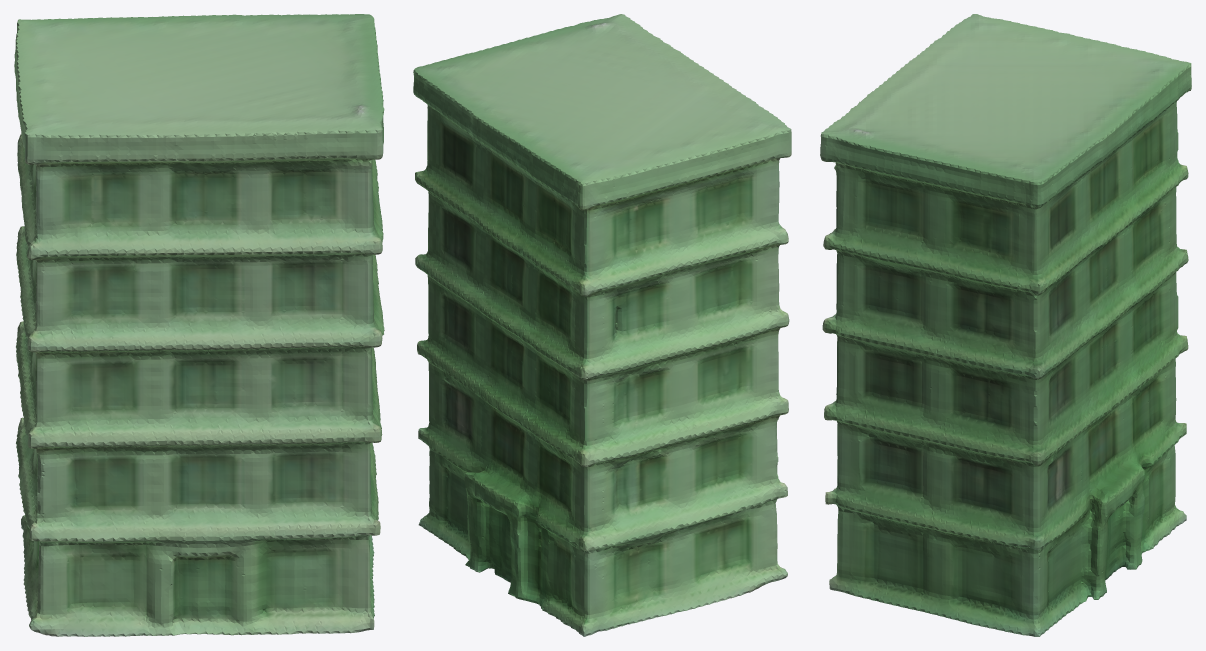
File: Head Office.glb
3 renders of one model, left to right at view 1: azimuth 30°, elevation 25°; view 2: azimuth 150°, elevation 25°; view 3: azimuth 270°, elevation 25°, orthographic. The views are drawn at different scales.
Visible parts, largest first — view 1: world; view 2: world; view 3: world.
Boxes of the visible parts, box(x1,y1,x2,y2) form: world: box(14, 14, 384, 636); world: box(413, 14, 791, 636); world: box(820, 14, 1191, 636).
Size of the model in its own units: 1.57 by 2.01 by 1.46.
